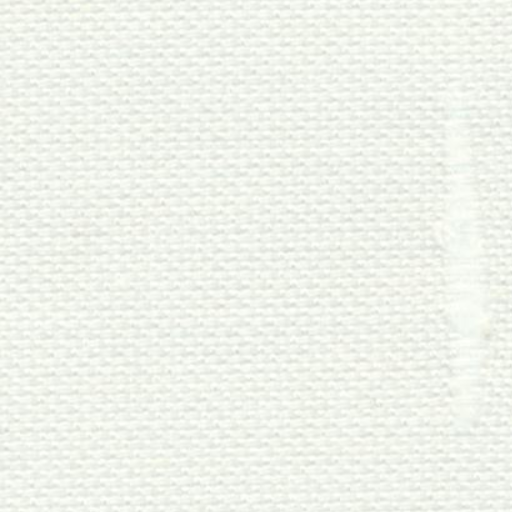DaiSha: (421, 18, 500, 442)
